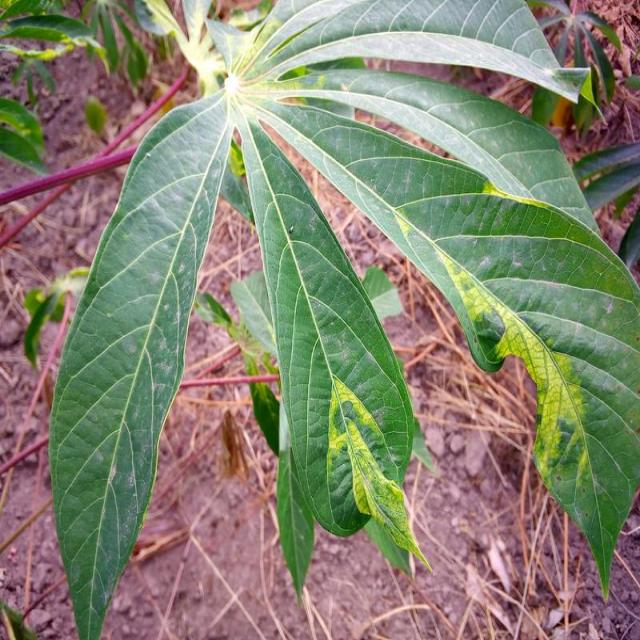cassava leaf: (45, 0, 638, 637), (47, 85, 234, 638), (234, 101, 422, 568)
